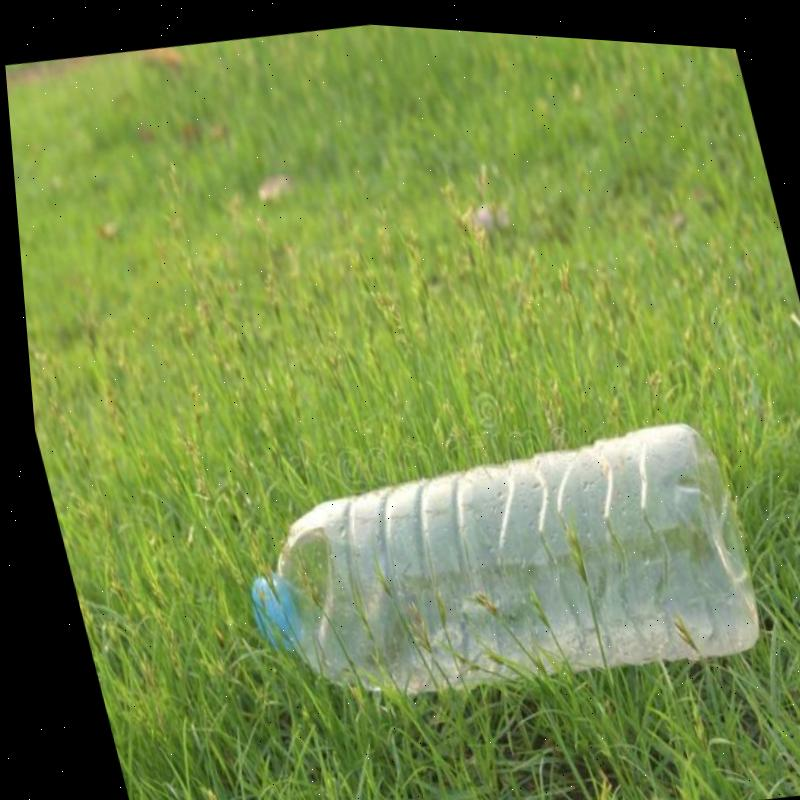botella: (201, 381, 766, 732)
